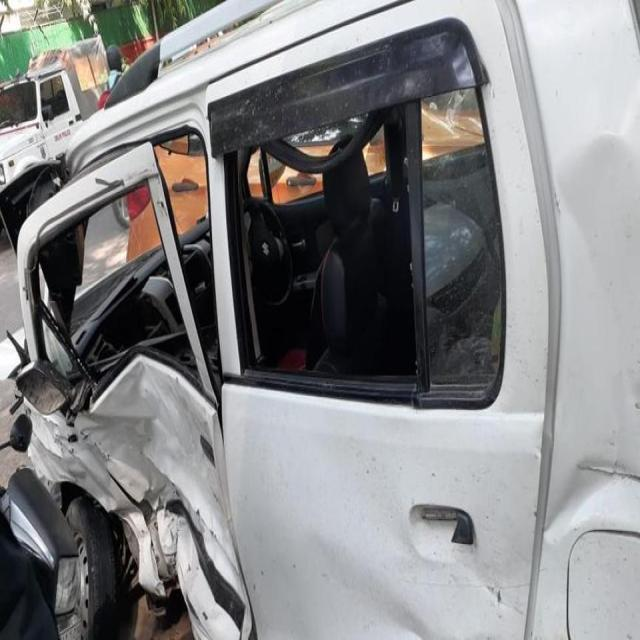accident: (16, 0, 640, 638)
car: (0, 36, 109, 192)
